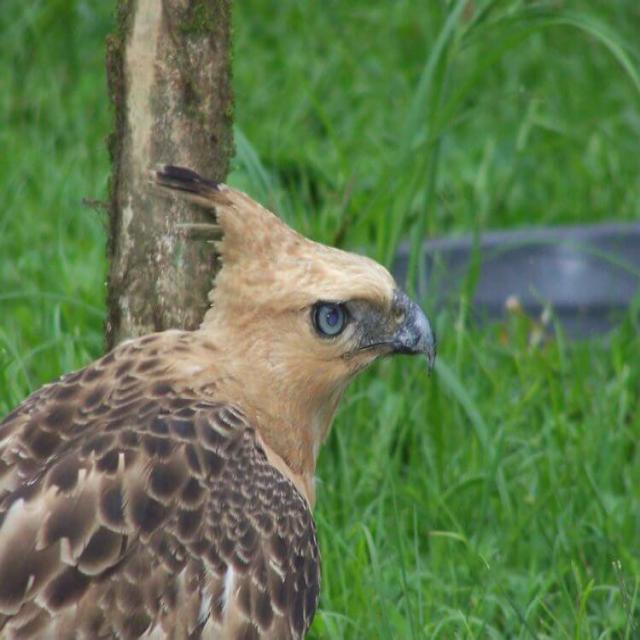Elang Jawa: (0, 146, 451, 640)
